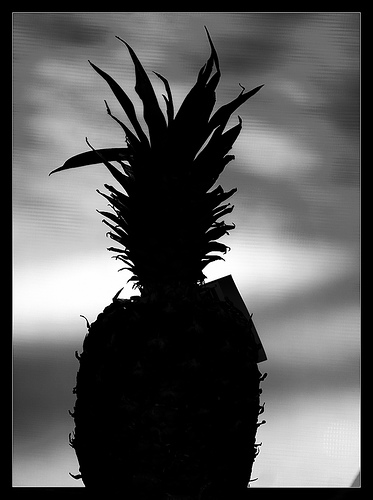pineapple: (46, 20, 266, 485)
